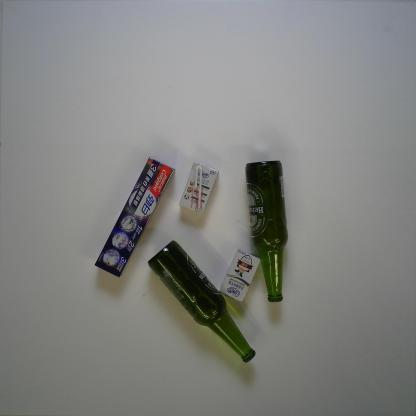Alcohol: (147, 238, 257, 365), (243, 159, 289, 304)
Milk: (219, 247, 262, 302), (178, 161, 220, 215)
Personal Hygiene: (93, 155, 177, 279)
